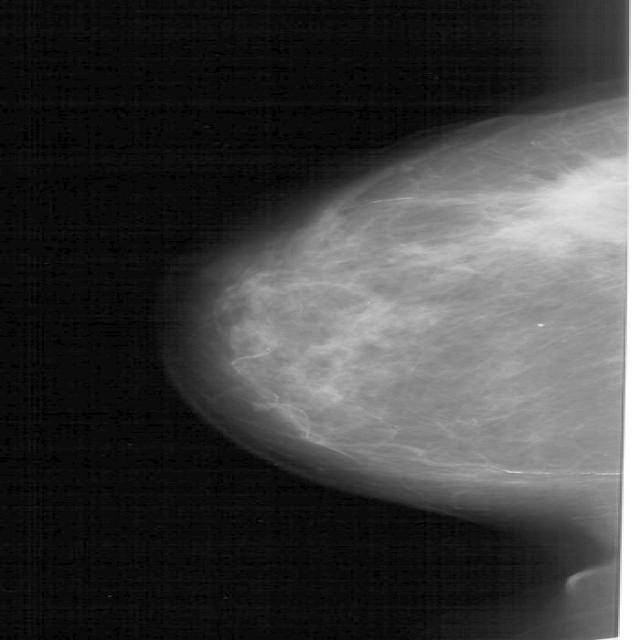tumour: (523, 159, 624, 248)
